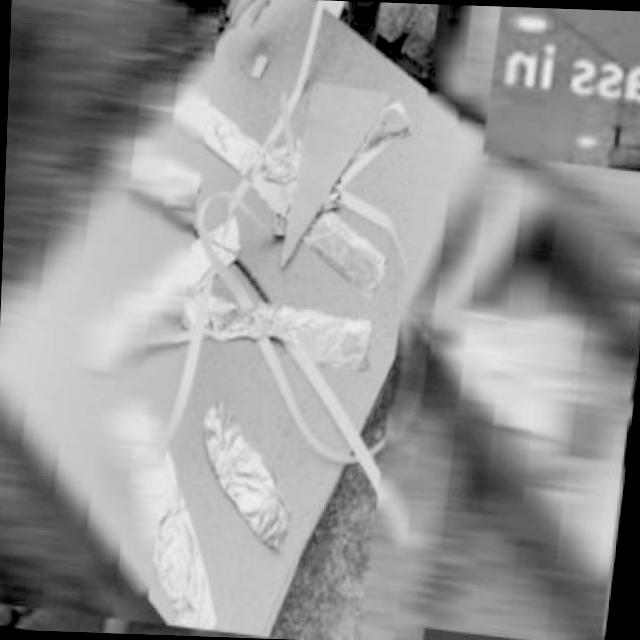box: (0, 0, 508, 640), (377, 136, 640, 640)
